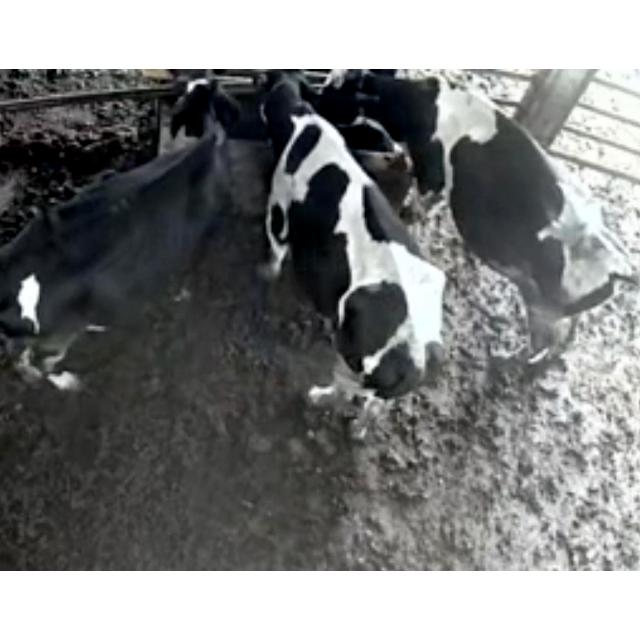drink: (156, 68, 248, 174), (252, 69, 336, 175), (320, 69, 436, 143)
